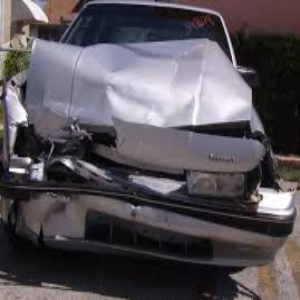bonnet: (26, 40, 255, 134)
